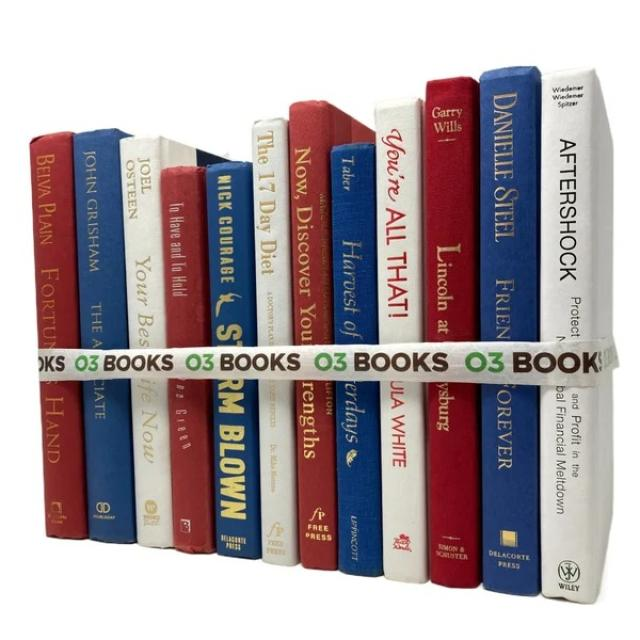book: (480, 74, 538, 596), (541, 71, 593, 595), (426, 79, 476, 587), (377, 98, 424, 583), (208, 162, 258, 559), (332, 147, 377, 575), (76, 135, 120, 544), (164, 164, 210, 554), (124, 138, 168, 544), (292, 100, 329, 566), (32, 134, 74, 539), (256, 121, 294, 564)
